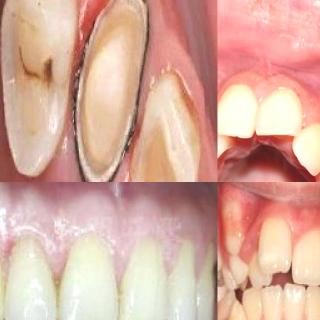Gum Swelling: (297, 97, 320, 129)
maligned: (276, 119, 320, 182), (256, 219, 292, 274), (220, 259, 250, 290), (246, 254, 272, 286), (221, 296, 249, 320), (218, 129, 232, 166), (233, 220, 249, 250), (218, 247, 222, 271)
stains: (156, 64, 204, 156), (42, 270, 67, 320)
